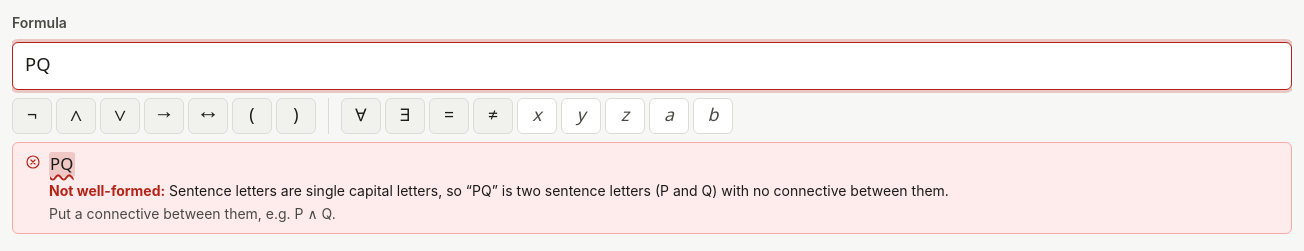
Test: symbol toolbar inserts at the caret
Click the button named "Insert and (conjunction)" at coordinates (76, 116), box [56,98,96,134]
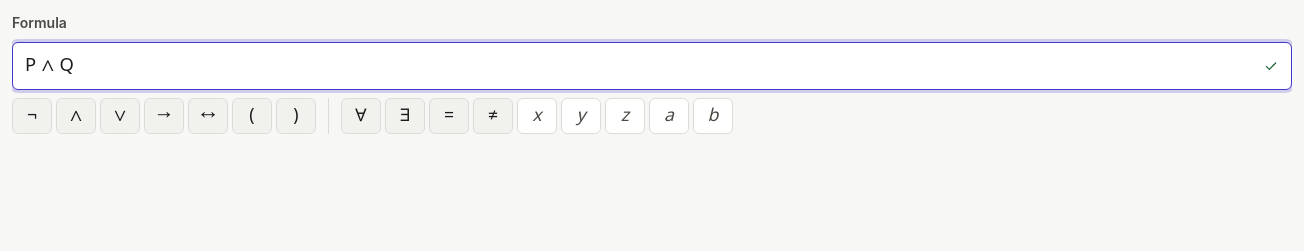
Check: the field labelled "Formula" holds "P ∧ Q", box [13,43,1263,89]
